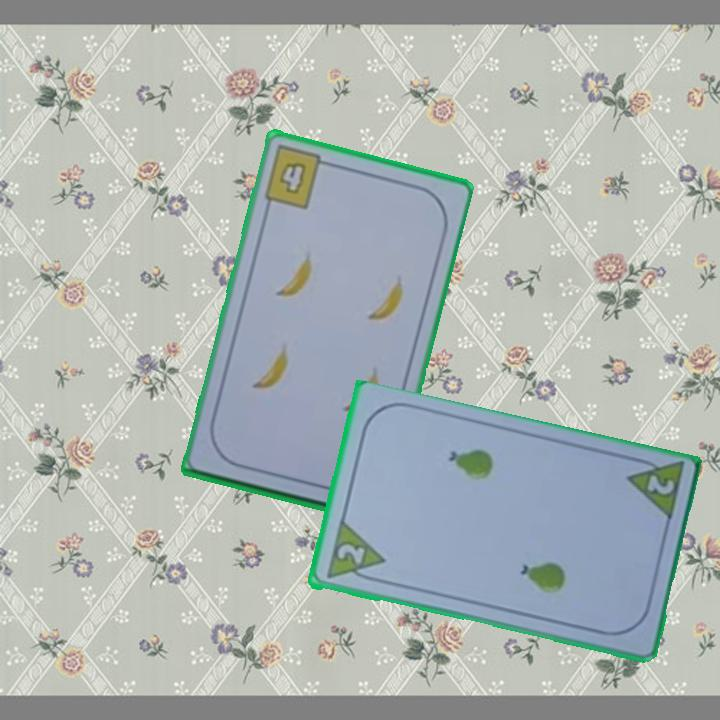2p: (322, 519, 387, 586), (642, 471, 677, 498)
4b: (260, 142, 334, 212)
